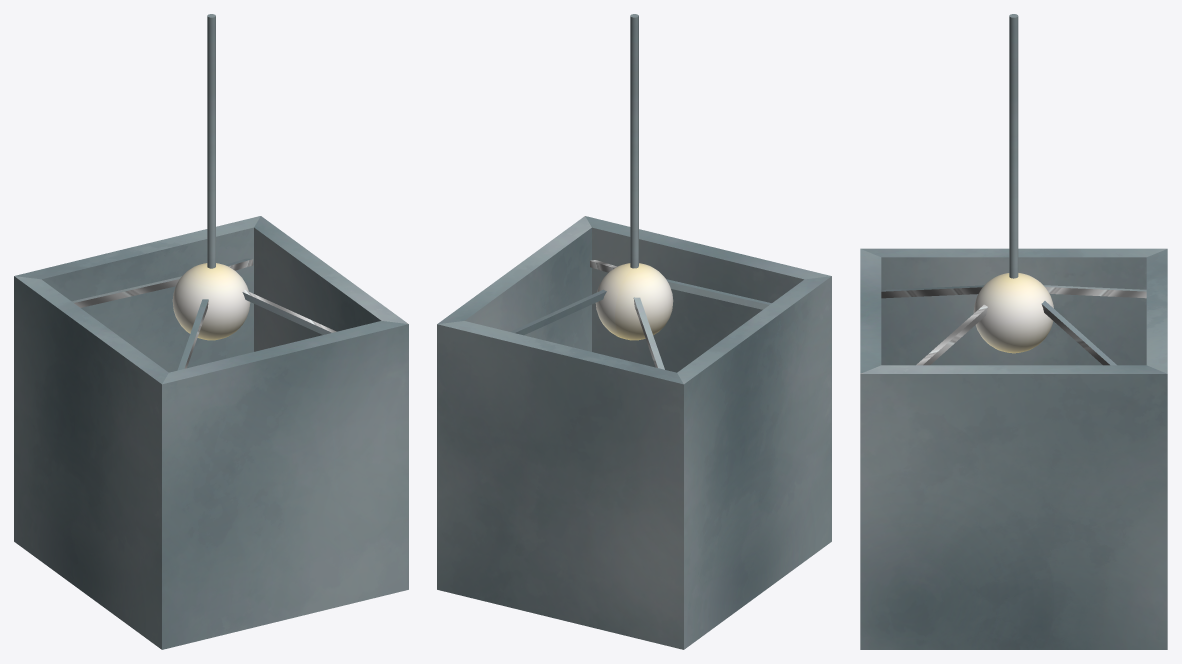
Rendered from Light.FBX.
The picture shows the model from 3 angles, left to right: view 1: azimuth 30°, elevation 25°; view 2: azimuth 150°, elevation 25°; view 3: azimuth 270°, elevation 25°; orthographic projection. The views are drawn at different scales.
Parts seen in each view (by area): view 1: Lampe; view 2: Lampe; view 3: Lampe.
Part boxes in pixels (box(x1,y1,x2,y2)): Lampe: box(14, 14, 408, 649); Lampe: box(437, 14, 831, 649); Lampe: box(860, 14, 1167, 649).
Bounding box in the file's own units: 0.22 × 0.4683 × 0.2284.
